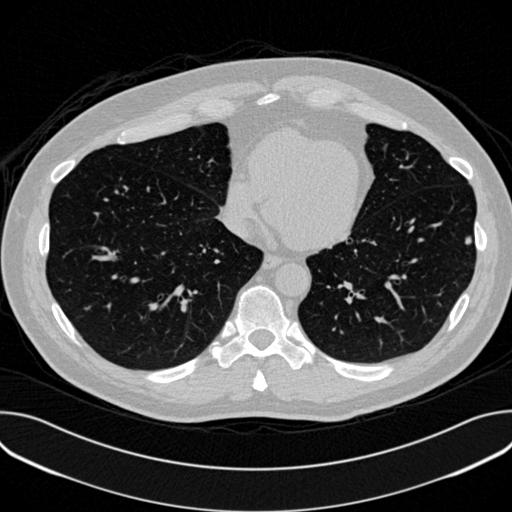nodule: (462, 234, 475, 247)
